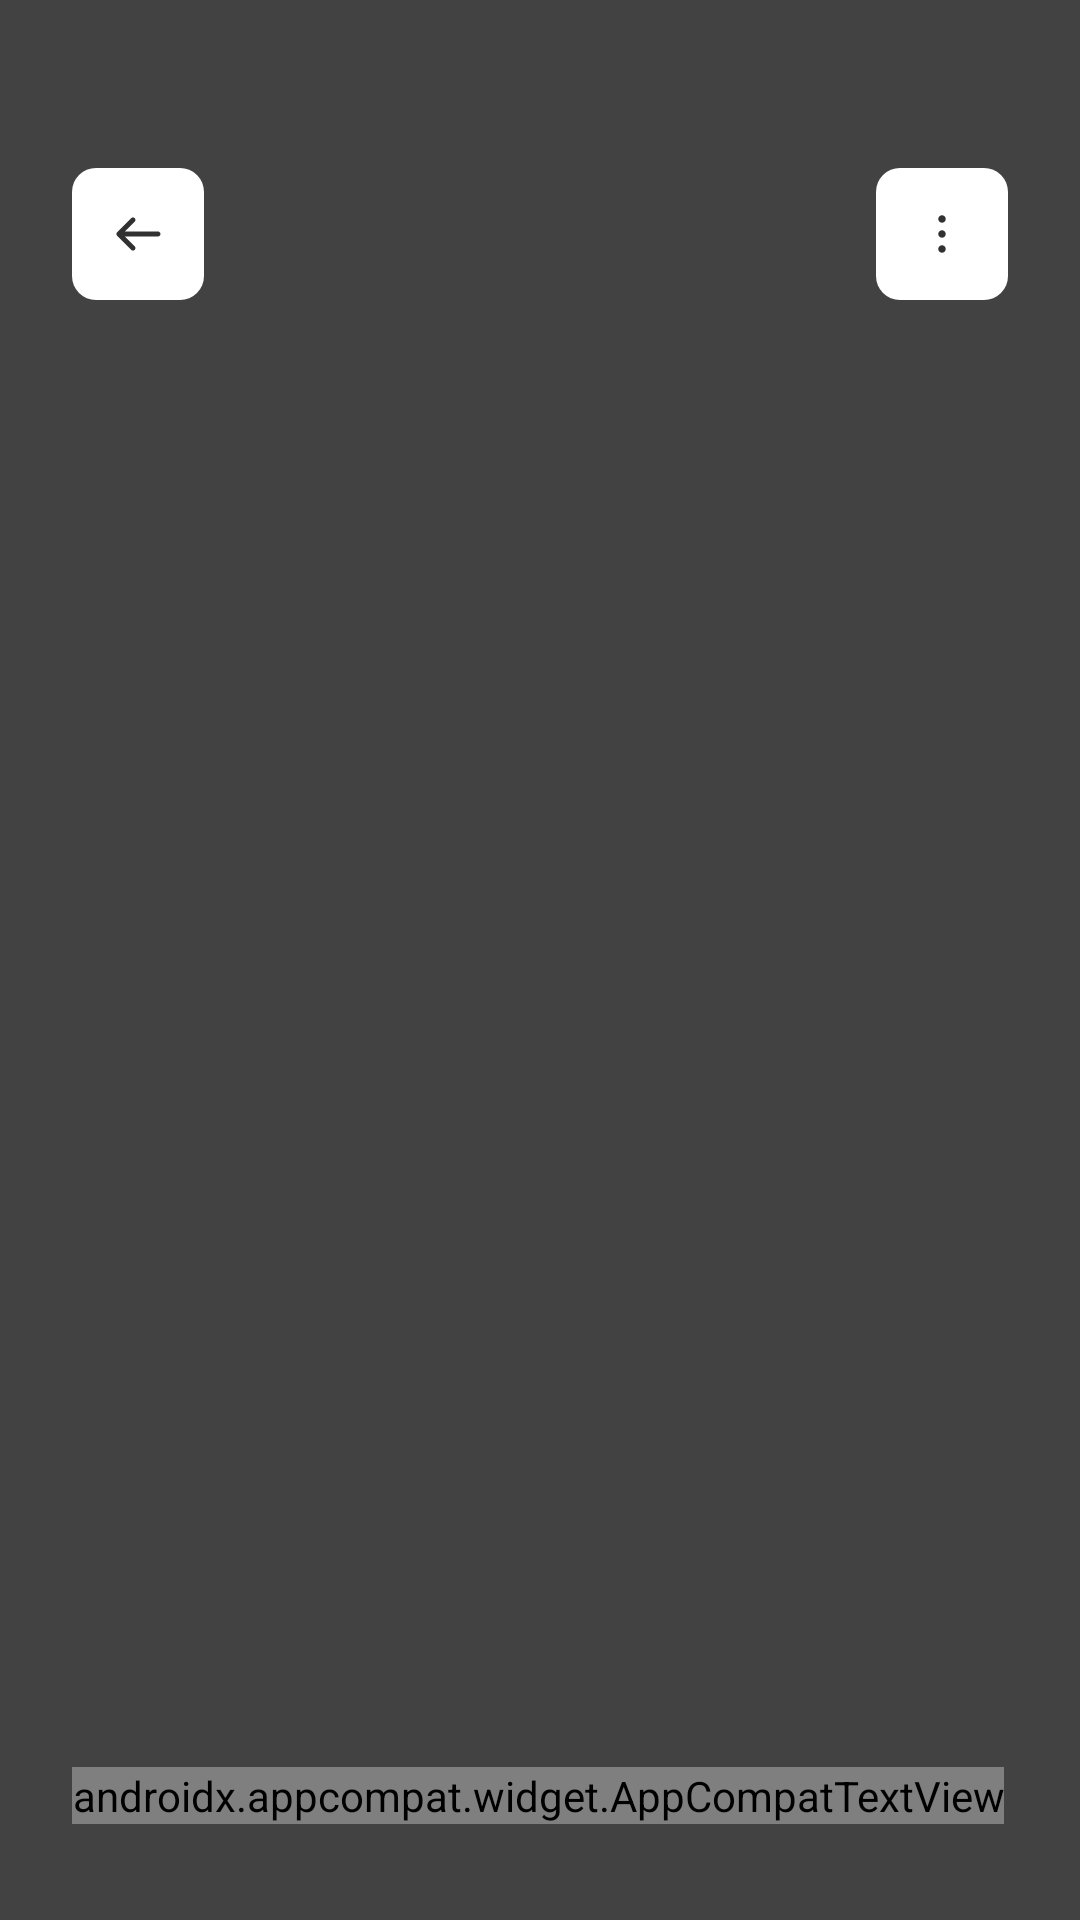

Icon click points for this 1080 × 1920 phone screenshot, format (x=x, y=y):
back: (x=138, y=234)
menu: (x=942, y=234)
